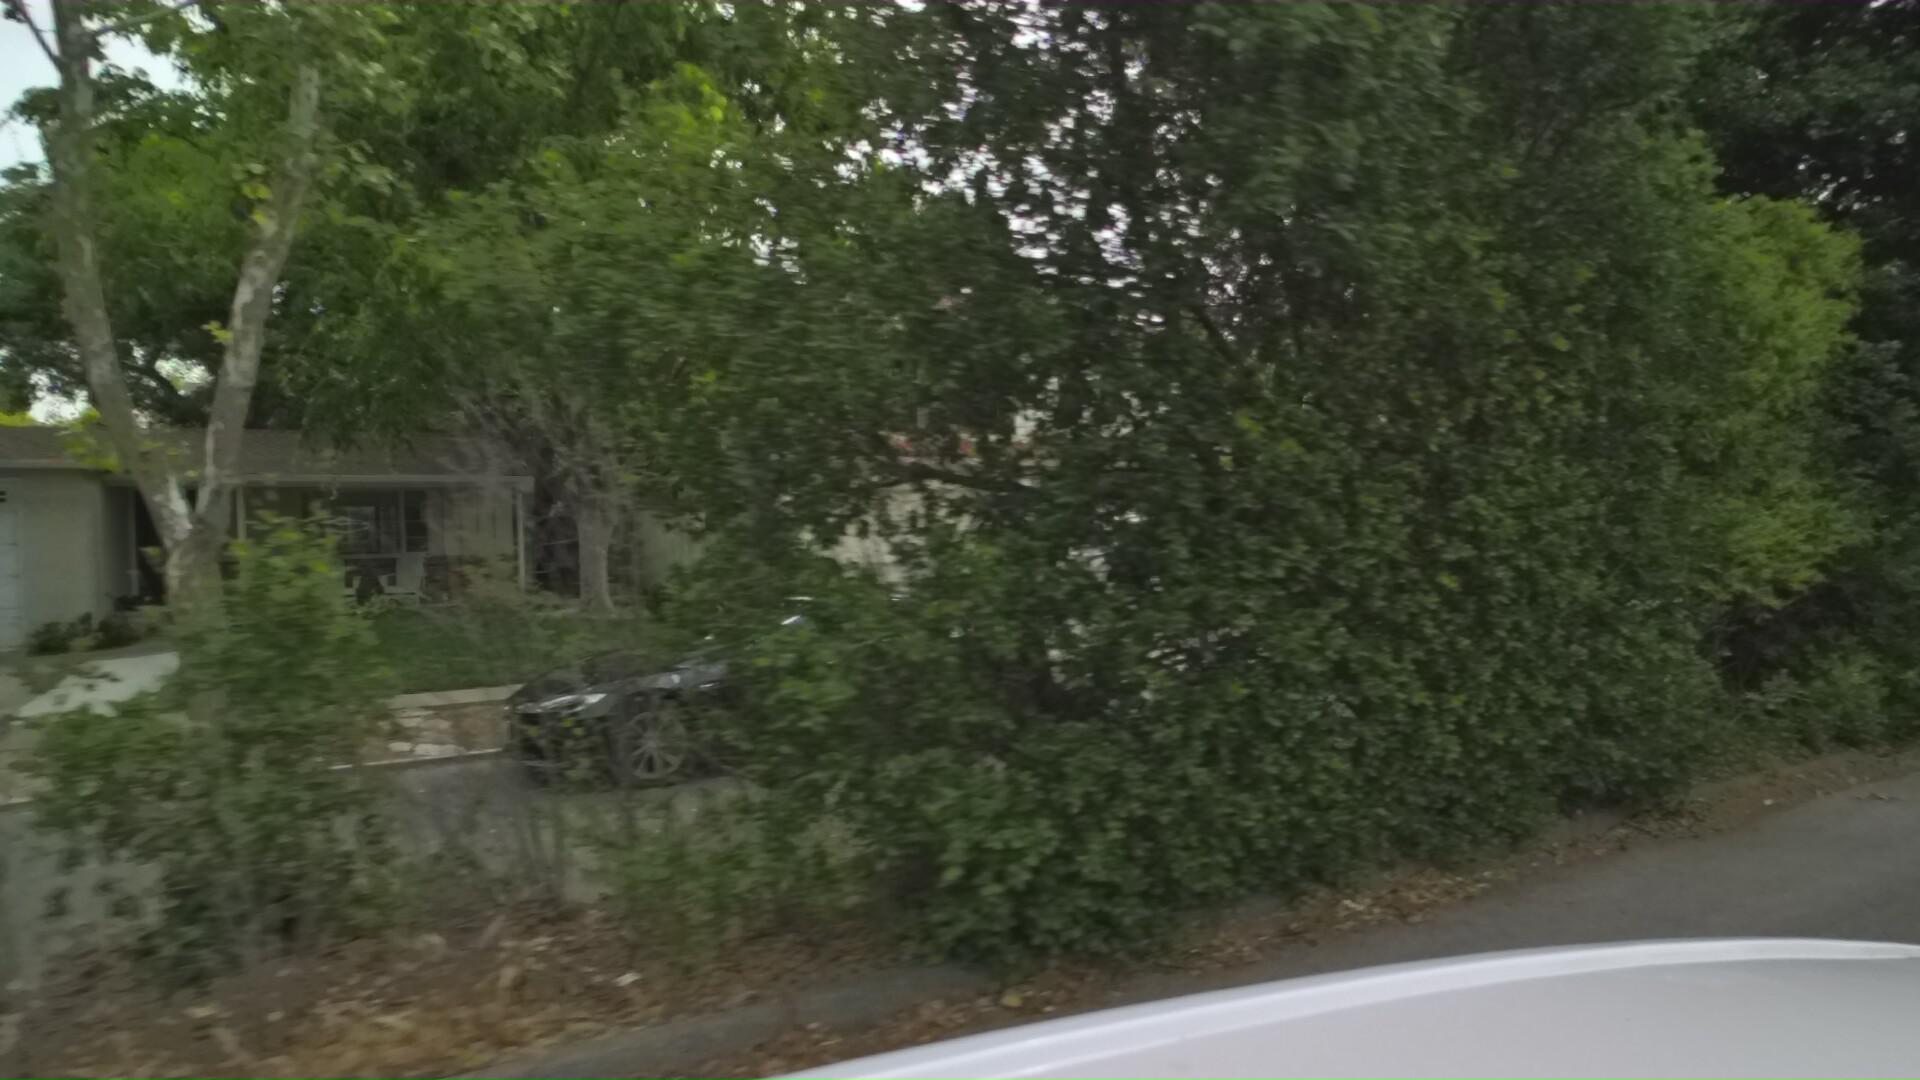car: (541, 564, 1143, 864), (990, 502, 1233, 620)
